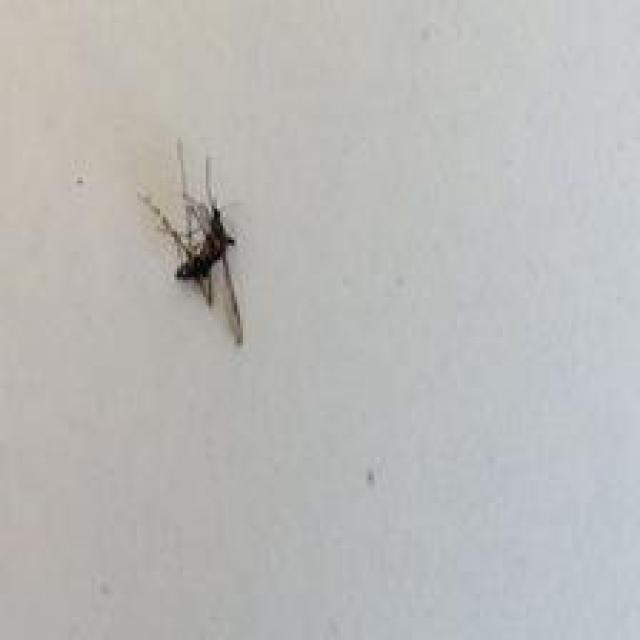Aedes albopictus: (137, 137, 246, 346)
